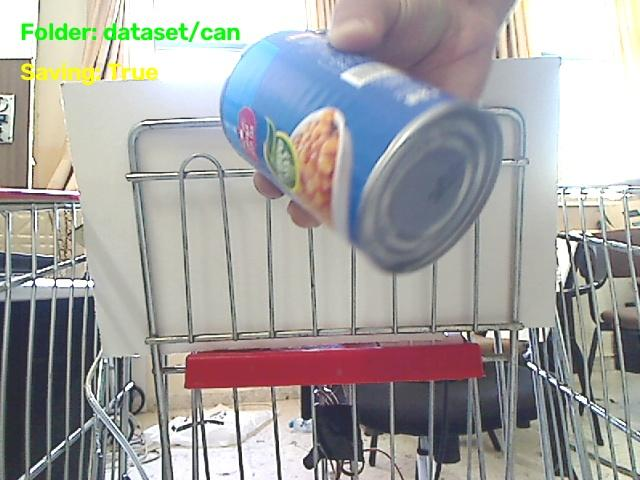can: (221, 32, 501, 271)
